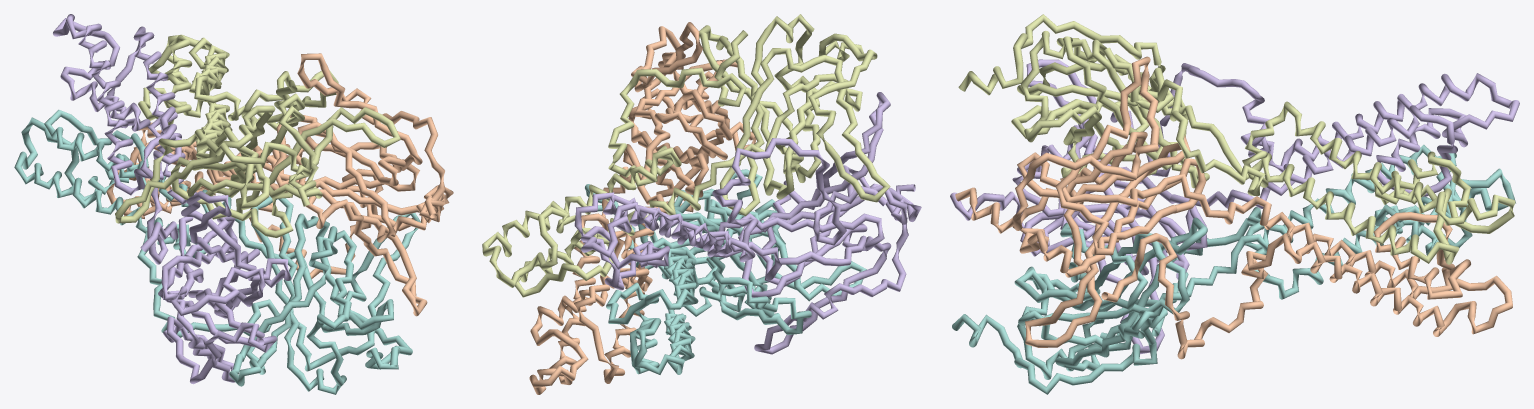
The model's file is 7zdz-backbone.glb.
The picture shows the model from 3 angles, left to right: view 1: azimuth 30°, elevation 25°; view 2: azimuth 150°, elevation 25°; view 3: azimuth 270°, elevation 25°; orthographic projection. The views are drawn at different scales.
Visible parts, largest first — view 1: 7ZDZ chain B, 7ZDZ chain C, 7ZDZ chain D, 7ZDZ chain A; view 2: 7ZDZ chain D, 7ZDZ chain C, 7ZDZ chain A, 7ZDZ chain B; view 3: 7ZDZ chain A, 7ZDZ chain D, 7ZDZ chain B, 7ZDZ chain C.
Boxes of the visible parts, box(x1,y1,x2,y2) form: 7ZDZ chain B: box(14, 109, 420, 394); 7ZDZ chain C: box(53, 14, 291, 384); 7ZDZ chain D: box(115, 34, 400, 237); 7ZDZ chain A: box(106, 53, 453, 316); 7ZDZ chain D: box(482, 14, 890, 297); 7ZDZ chain C: box(574, 92, 921, 354); 7ZDZ chain A: box(529, 22, 756, 394); 7ZDZ chain B: box(585, 169, 866, 374); 7ZDZ chain A: box(955, 56, 1512, 359); 7ZDZ chain D: box(958, 14, 1515, 264); 7ZDZ chain B: box(952, 144, 1515, 394); 7ZDZ chain C: box(950, 59, 1519, 354).
Bounding box in the file's own units: 1.64 × 1.59 × 2.43.
